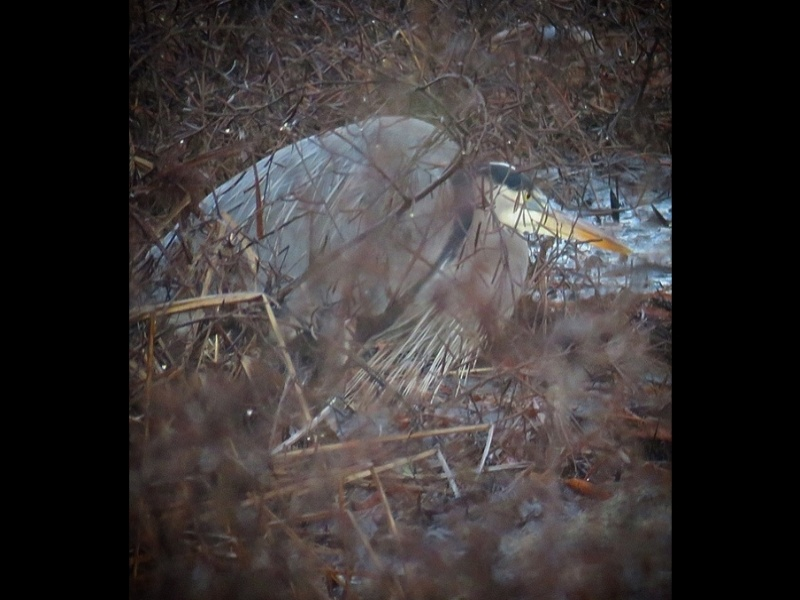heron: (145, 109, 634, 453)
